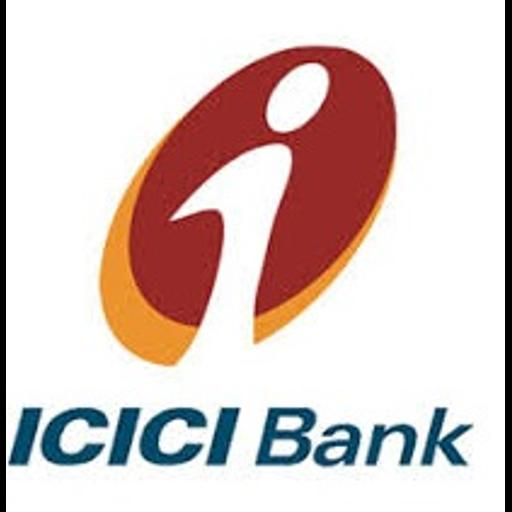ICICI Bank Limited: (6, 0, 505, 512)
